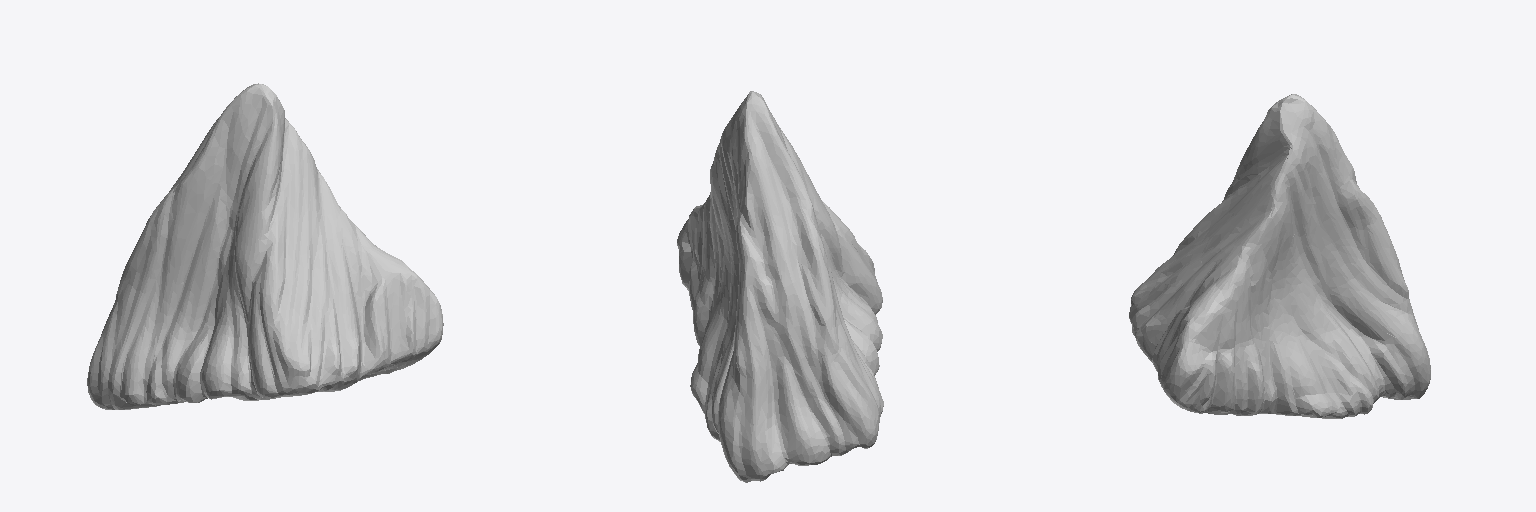
The model's file is CL_drums_dir2_LOD1.obj.
The picture shows the model from 3 angles: view 1: azimuth 30°, elevation 25°; view 2: azimuth 150°, elevation 25°; view 3: azimuth 270°, elevation 25°; orthographic projection.
Bounding box in the file's own units: 0.8534 × 0.9891 × 0.8179.